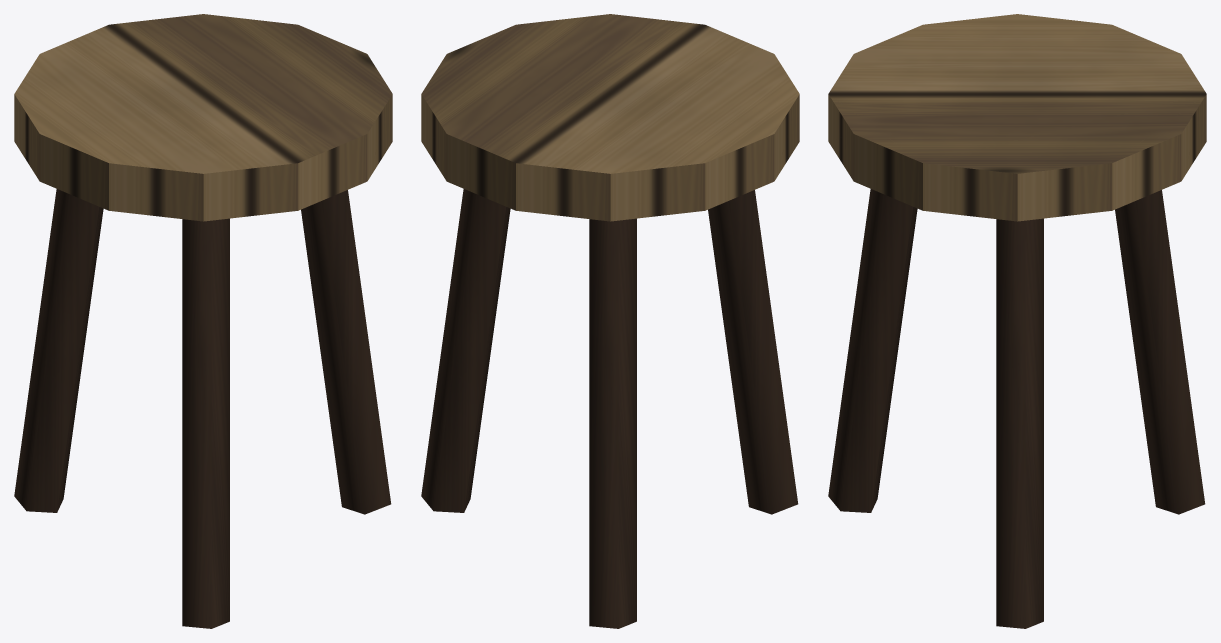
The model's file is stool.gltf.
3 renders of one model, left to right at view 1: azimuth 30°, elevation 25°; view 2: azimuth 150°, elevation 25°; view 3: azimuth 270°, elevation 25°, orthographic.
Visible parts, largest first — view 1: stool_mesh; view 2: stool_mesh; view 3: stool_mesh.
Boxes of the visible parts, x1,y1,x2,y2 form: stool_mesh: [14, 14, 392, 628]; stool_mesh: [421, 14, 799, 628]; stool_mesh: [828, 14, 1206, 628].
Size of what is drawn, in the model's own units: 0.3835 by 0.4733 by 0.3601.
2 materials, 2 textured.
